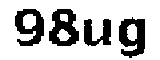8: (47, 7, 80, 48)
9: (12, 9, 45, 49)
g: (115, 16, 152, 60)
u: (82, 14, 113, 50)
